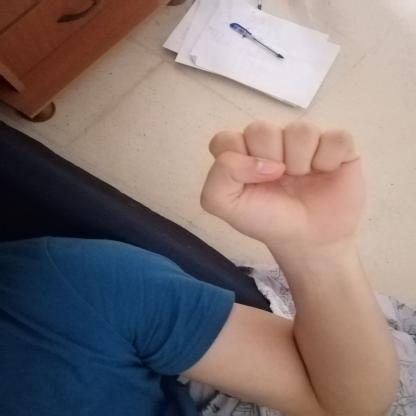SAD: (177, 108, 394, 258)
